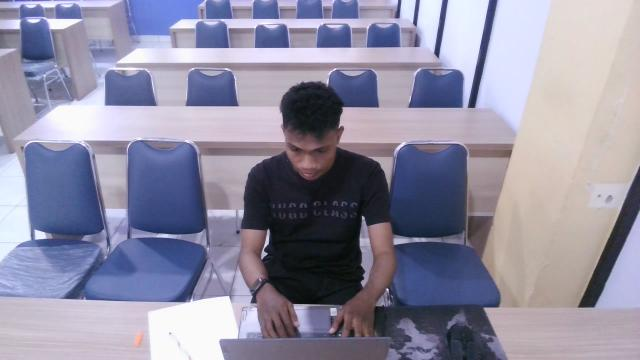Head_Down_Extreme: (243, 68, 393, 290)
